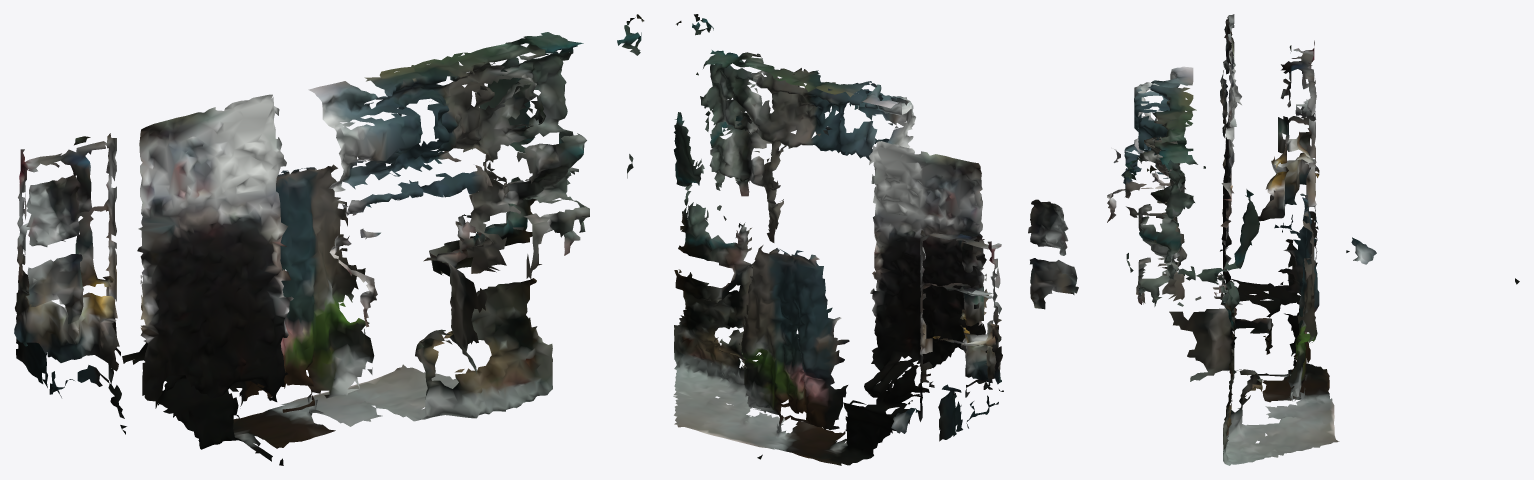
The picture shows the model from 3 angles, left to right: view 1: azimuth 30°, elevation 25°; view 2: azimuth 150°, elevation 25°; view 3: azimuth 270°, elevation 25°; orthographic projection. The views are drawn at different scales.
Size of the model in its own units: 2.99 by 2.13 by 2.41.
